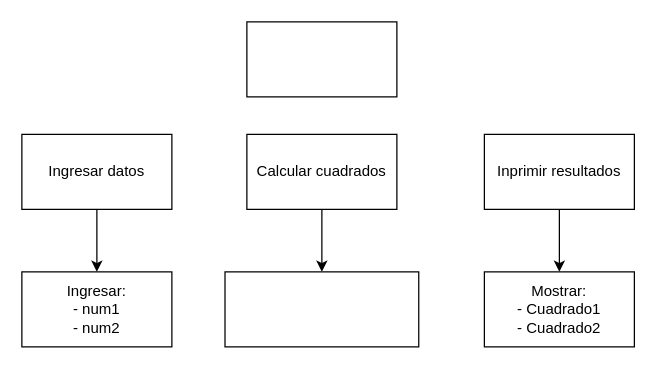
The diagram is 656 pixels wide and 369 high, and some of its shapes have lost their labels. The box of each missing label's shape, as (x1, y1, x2, y2) in pixels:
Cuadrado de dos numeros: (246, 21, 397, 97)
cuadrado1 = num1 * num1 cuadrado2 = num2 * num2: (224, 271, 419, 347)
